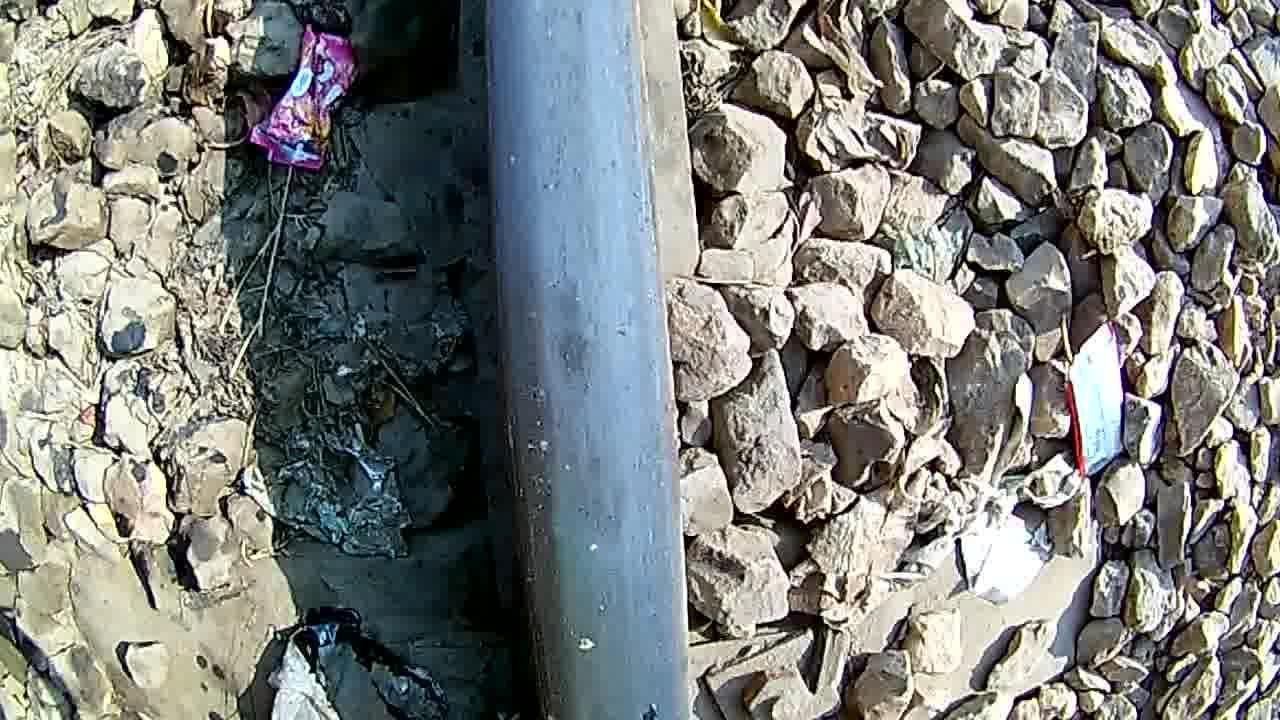crack: (487, 229, 672, 641)
